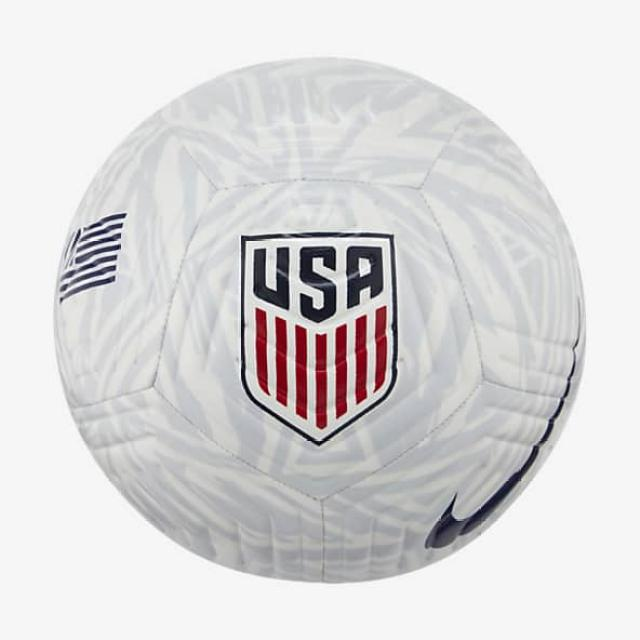soccer ball: (55, 57, 586, 585)
